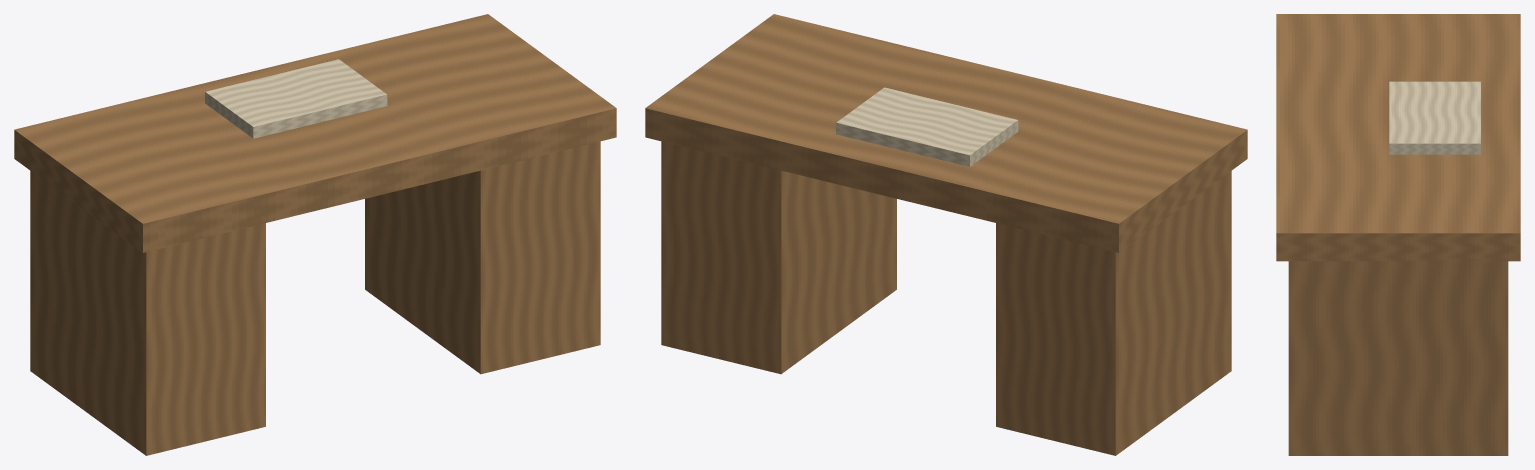
The picture shows the model from 3 angles, left to right: view 1: azimuth 30°, elevation 25°; view 2: azimuth 150°, elevation 25°; view 3: azimuth 270°, elevation 25°; orthographic projection. The views are drawn at different scales.
Visible parts, largest first — view 1: Stationsschreibtisch; view 2: Stationsschreibtisch; view 3: Stationsschreibtisch.
Boxes of the visible parts, x1,y1,x2,y2 form: Stationsschreibtisch: (14, 14, 616, 455); Stationsschreibtisch: (645, 14, 1247, 455); Stationsschreibtisch: (1276, 14, 1520, 455).
Bounding box in the file's own units: 1.7 × 0.86 × 0.8.
Materials: 2 (2 with a texture image).
